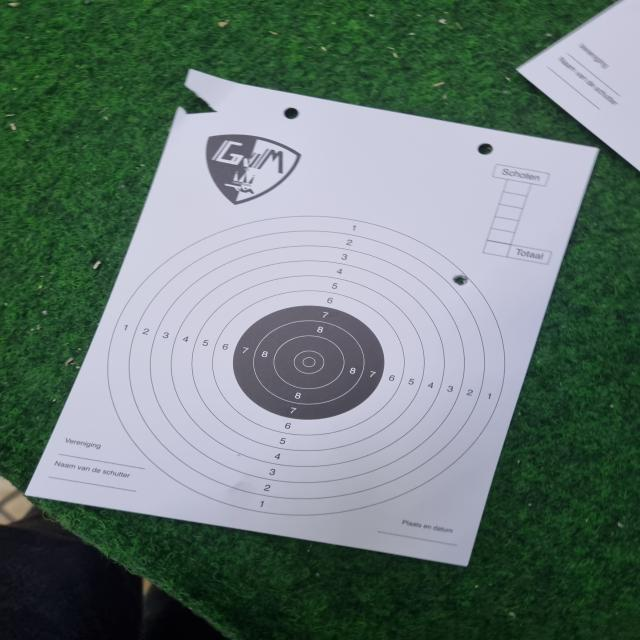1: (448, 273, 473, 287)
Target: (105, 216, 509, 516)
black_contour: (235, 306, 384, 420)
